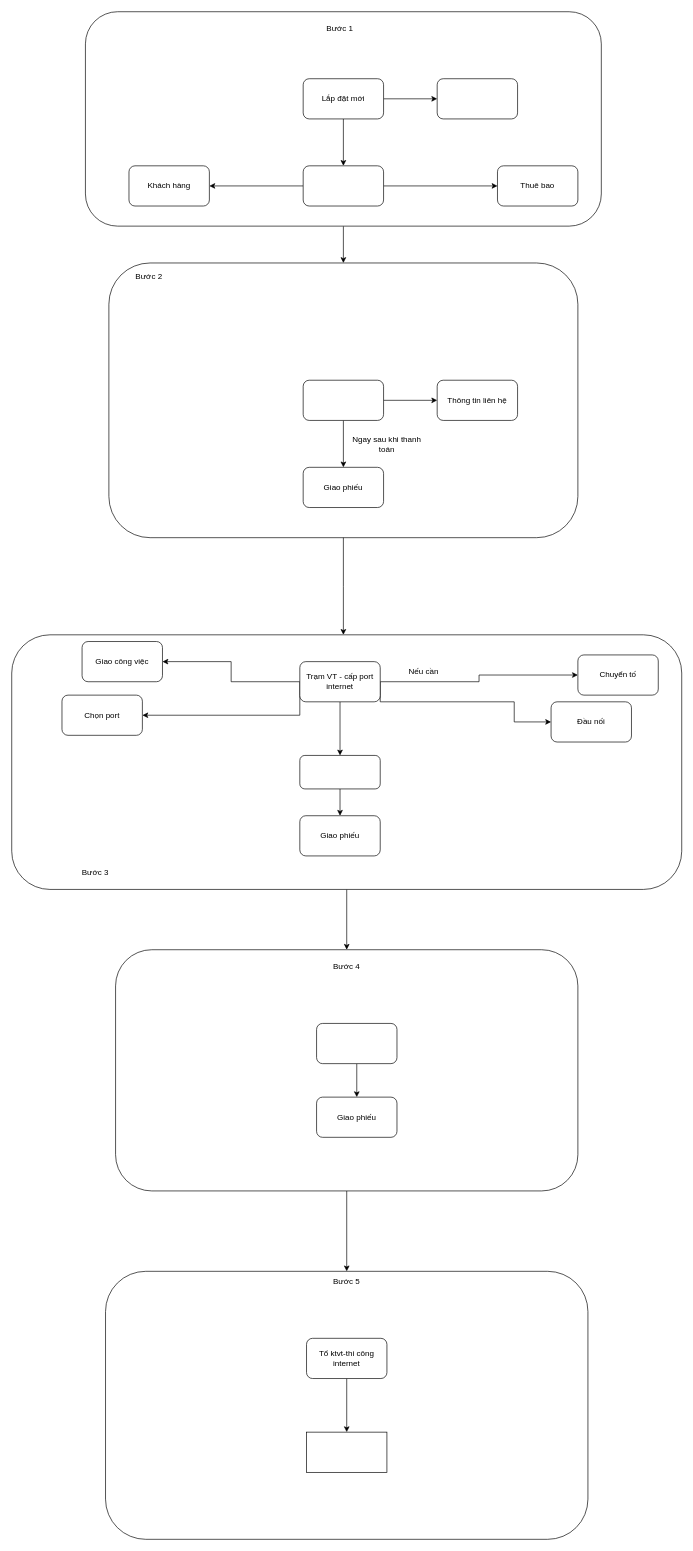
Some shapes in this 693 by 1551 pixel diagram are drawn without their labels. Each missing label, with the centre of its shape:
"Hoàn công" goes at pixel 346 1451.
"Khai báo thuê bao internet" goes at pixel 356 1043.
"Kích hoạt tài khoản" goes at pixel 339 772.
"Nhập thông tin" goes at pixel 343 185.
"Thanh toán" goes at pixel 343 400.
"Tư vấn" goes at pixel 477 98.
